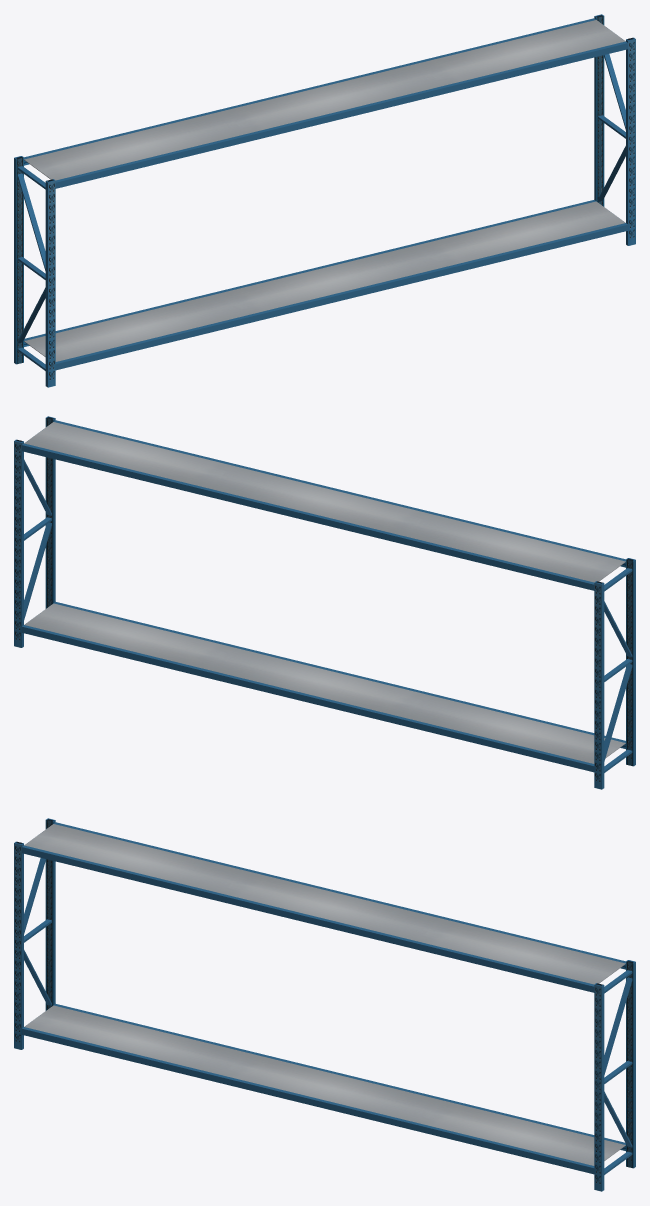
The model's file is myModel.obj.
3 views of the same model, one above another, from view 1: azimuth 30°, elevation 25°; view 2: azimuth 150°, elevation 25°; view 3: azimuth 330°, elevation 25° (orthographic).
Visible parts, largest first — view 1: Mesh1; view 2: Mesh1; view 3: Mesh1.
Boxes of the visible parts, box(x1,y1,x2,y2) form: Mesh1: box(14, 14, 635, 387); Mesh1: box(14, 416, 635, 789); Mesh1: box(14, 818, 635, 1191).
Bounding box in the file's own units: 6000 × 2000 × 600.
Materials: 1 (1 with a texture image).
